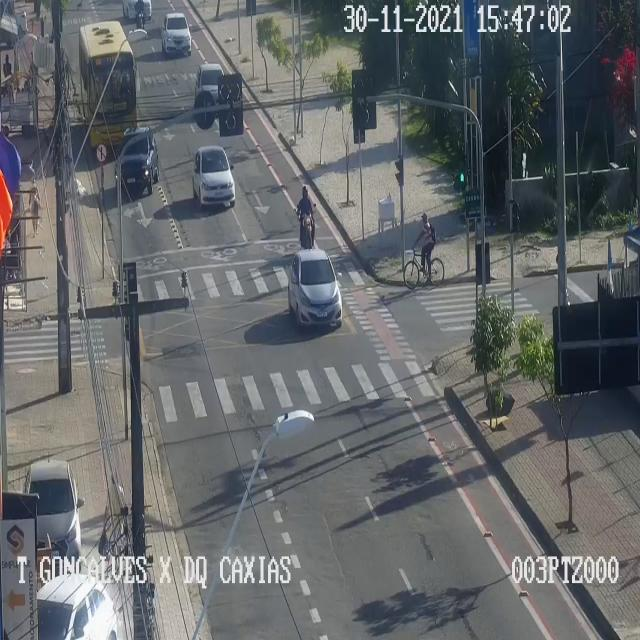Bus: (78, 21, 136, 147)
Car: (24, 460, 80, 570), (36, 573, 116, 639), (288, 249, 342, 325), (114, 126, 158, 193), (192, 145, 234, 204), (194, 63, 228, 114), (161, 12, 191, 54), (123, 0, 152, 22)
Motorcycle: (296, 185, 316, 248), (136, 0, 144, 36)
